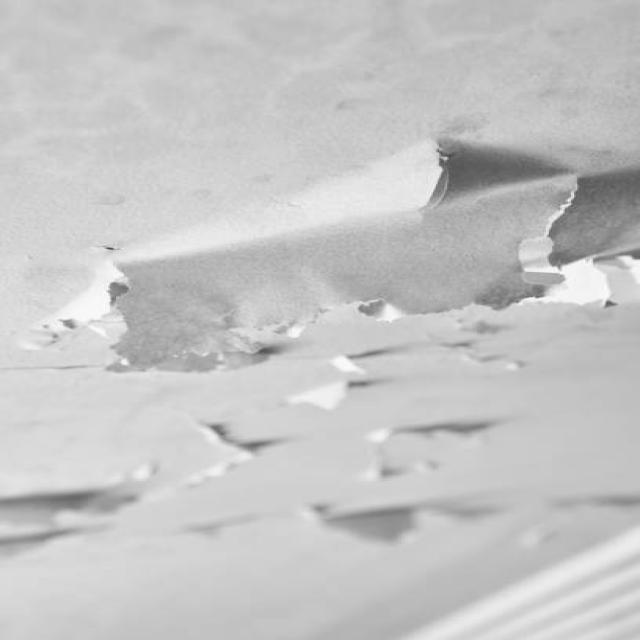peeling paint: (0, 123, 640, 625)
